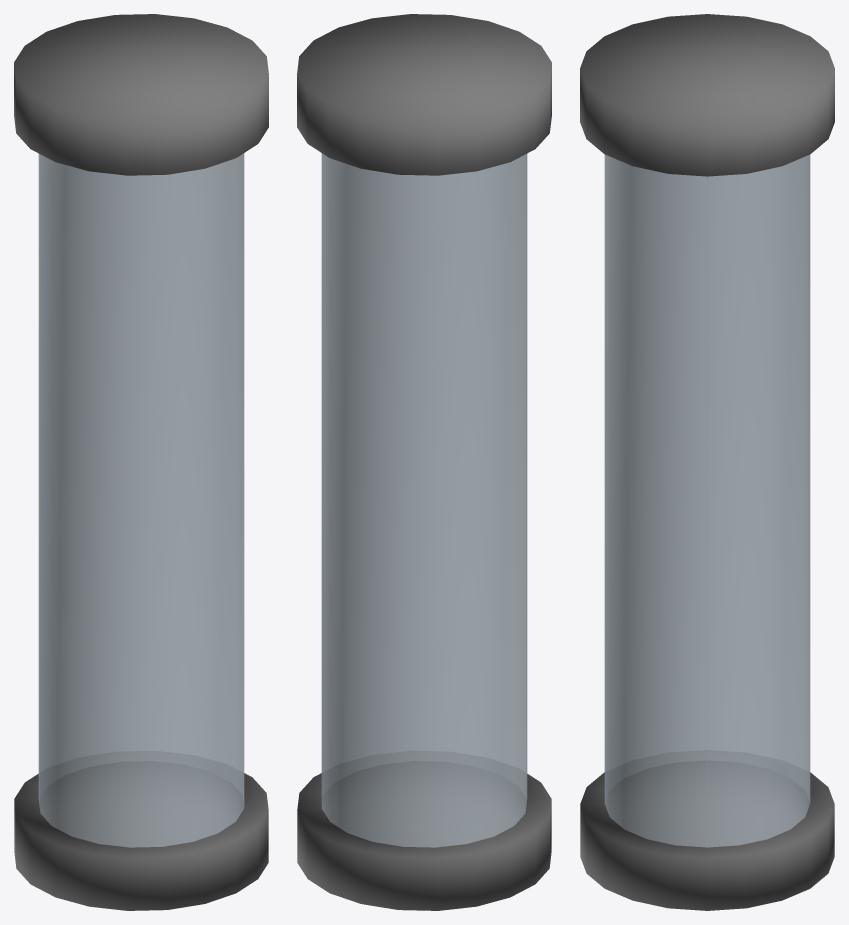
3 views of the same model, side by side, from view 1: azimuth 30°, elevation 25°; view 2: azimuth 150°, elevation 25°; view 3: azimuth 270°, elevation 25° (orthographic).
Parts seen in each view (by area): view 1: Test_tube; view 2: Test_tube; view 3: Test_tube.
Part boxes in pixels (x1,y1,x2,y2): Test_tube: (14, 14, 268, 910); Test_tube: (297, 14, 551, 910); Test_tube: (580, 14, 834, 910).
Size of the model in its own units: 11.96 by 40.62 by 11.89.
